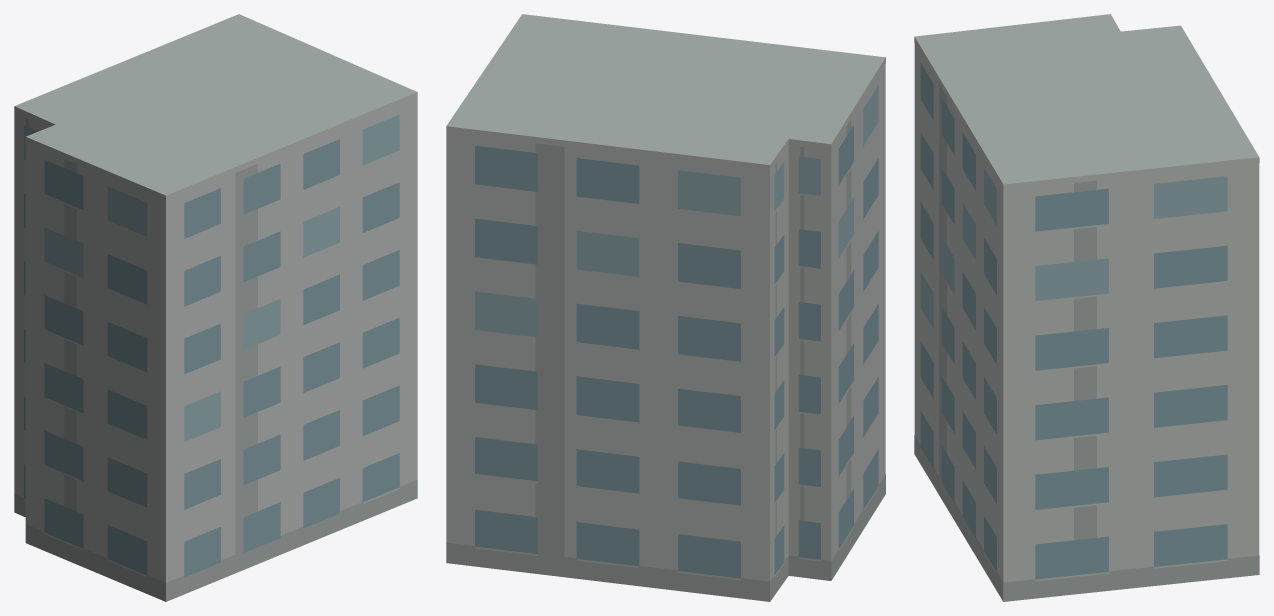
The model's file is survey-upis-32710432.glb.
3 views of the same model, side by side, from view 1: azimuth 30°, elevation 25°; view 2: azimuth 150°, elevation 25°; view 3: azimuth 270°, elevation 25° (orthographic). The views are drawn at different scales.
Visible parts, largest first — view 1: survey-upis-32710432.tmp; view 2: survey-upis-32710432.tmp; view 3: survey-upis-32710432.tmp.
Part boxes in pixels (x1,y1,x2,y2): survey-upis-32710432.tmp: (14, 14, 417, 601); survey-upis-32710432.tmp: (446, 14, 885, 601); survey-upis-32710432.tmp: (914, 14, 1259, 601).
Size of the model in its own units: 14.71 by 16.8 by 12.59.
